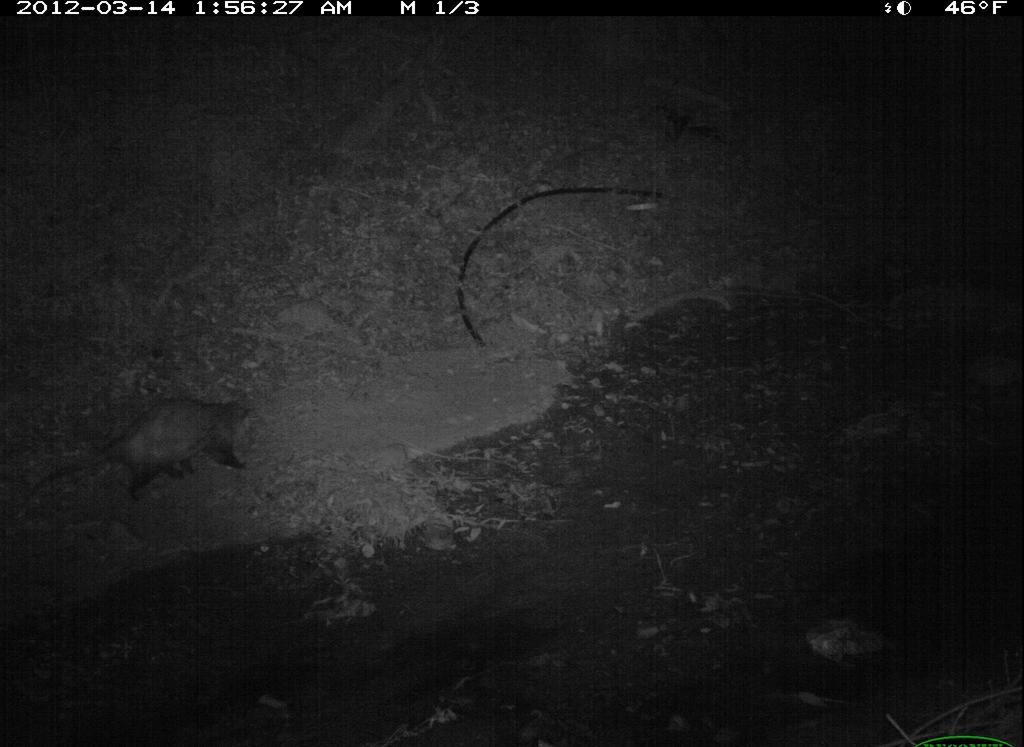opossum: (36, 379, 269, 514)
